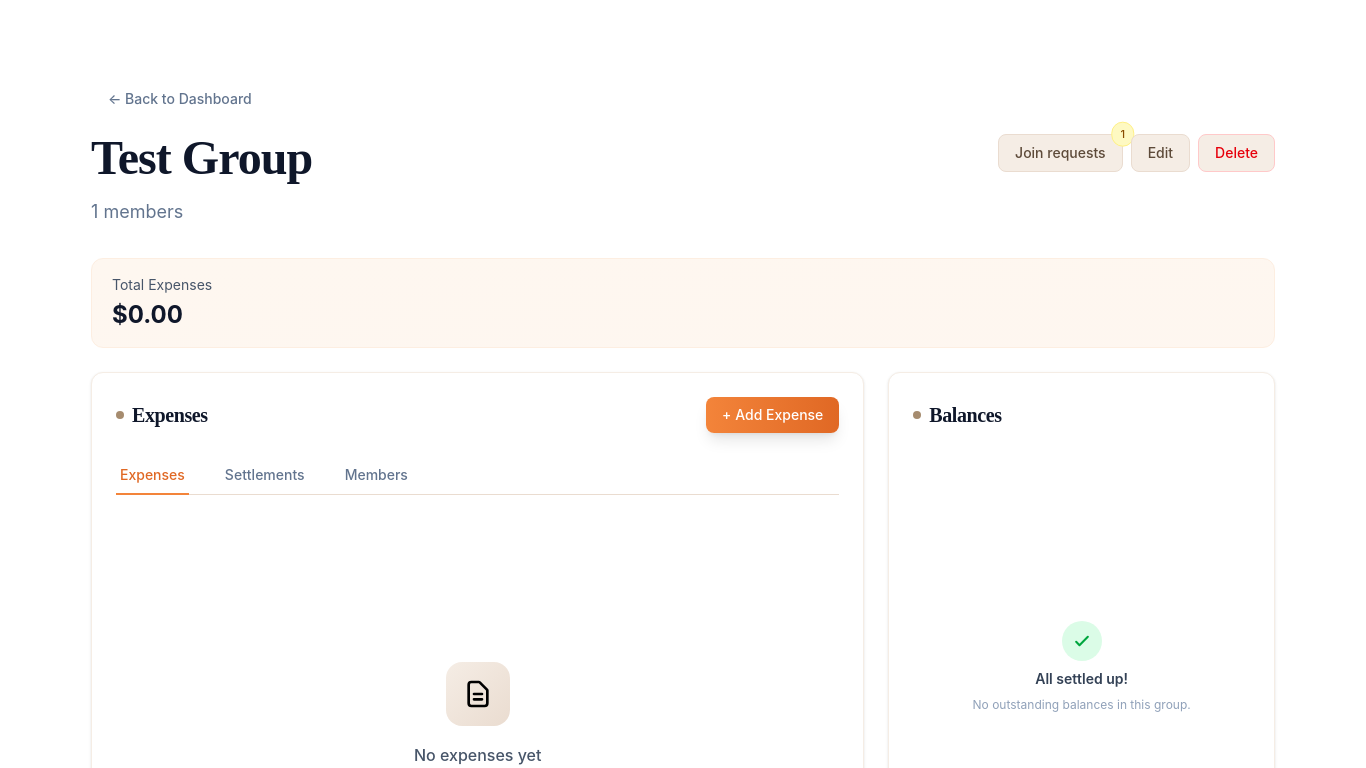
Test: GroupDetailPage › Successful Group Display › opens join requests modal for owner
The image size is (1366, 768).
Step 1. Click the button "Join requests" → x=1060, y=153, box [998,134,1123,172]
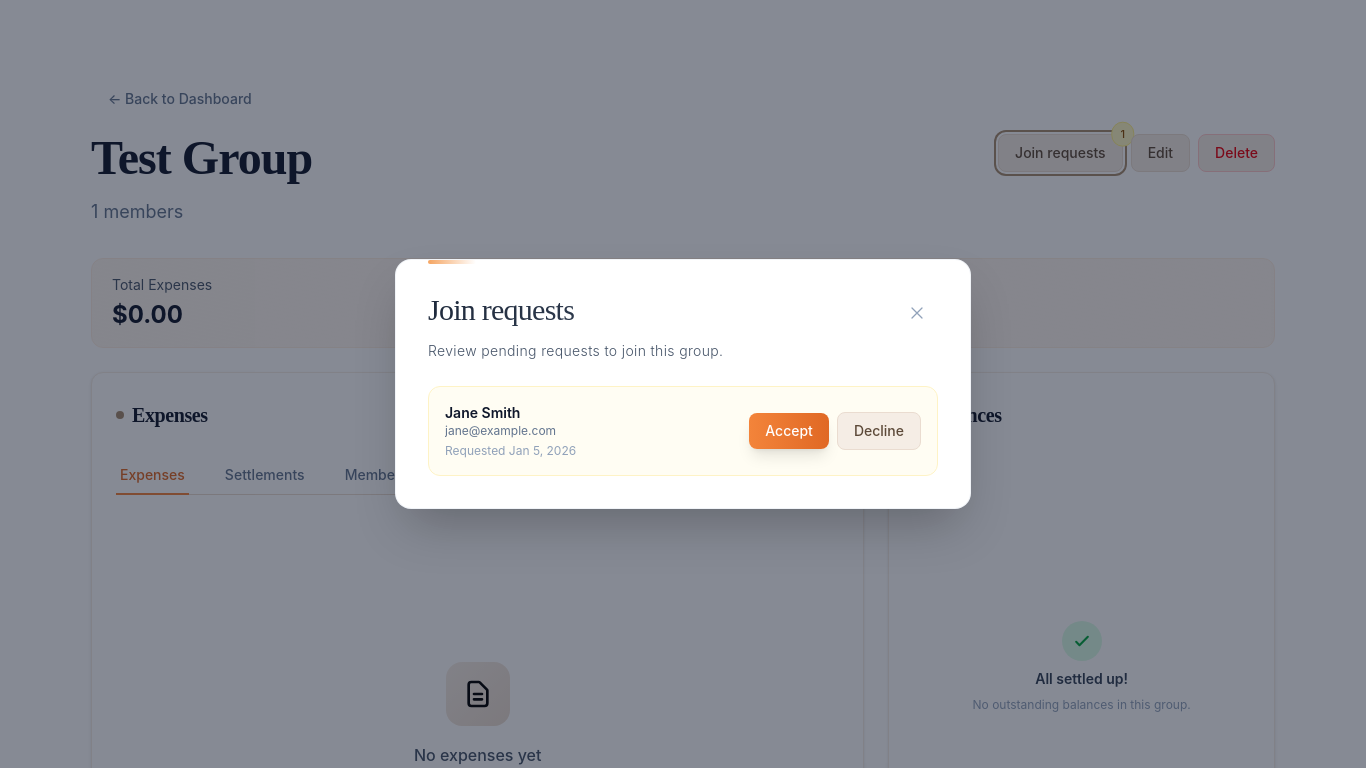
Expected: the text "Jane Smith" is shown, [445,404,520,421]
Expected: the button "Accept" is shown, [749,413,829,449]
Expected: the button "Decline" is shown, [837,412,921,450]
